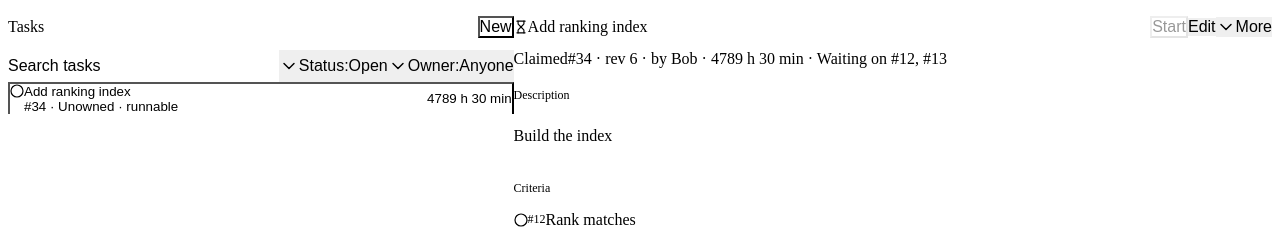
Scenario: Task work board › shows waiting dependencies and disables Start with its explanation
The width and height of the screenshot is (1280, 244).
Expected: the text "#34 · rev 6 · by Bob · 4789 h 30 min · Waiting on #12, #13" is shown, [568,50,947,68]
Hover over the element showing "Start" at (1169, 27), box [1150,16,1188,38]
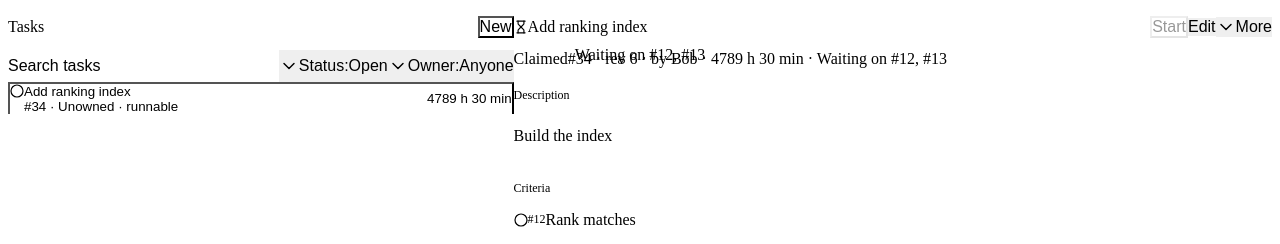
Now the tooltip reads "Waiting on #12, #13", box [575,46,705,63]
